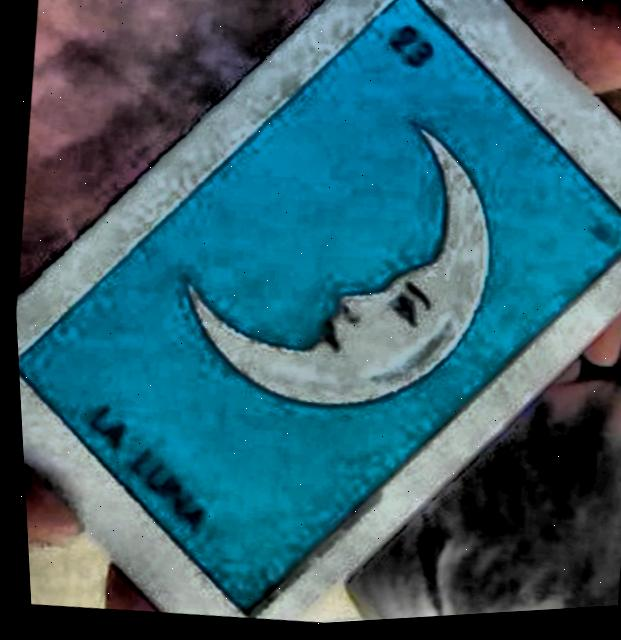La Luna: (15, 0, 621, 614)
